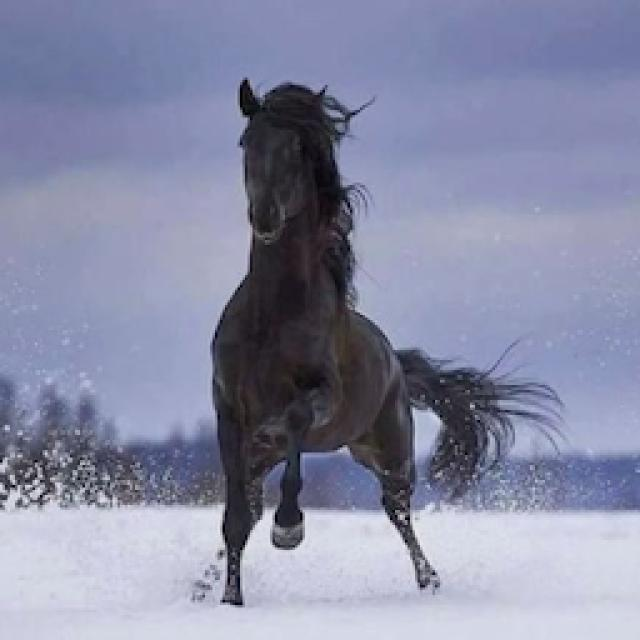Horse: (188, 70, 572, 610)
